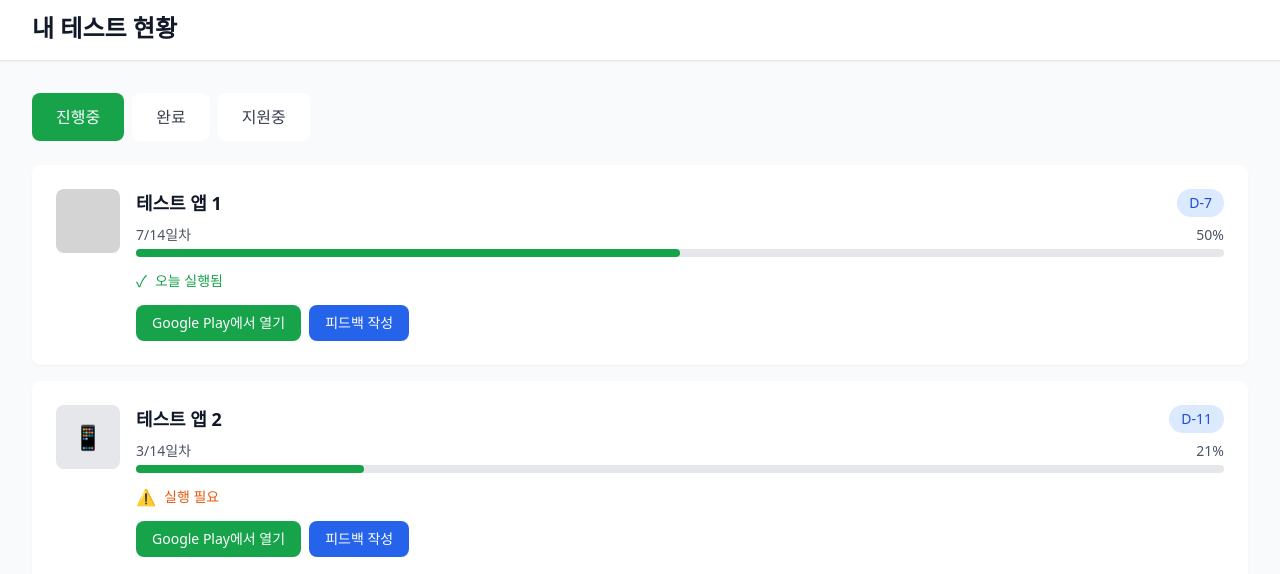
Scenario: T-03: 내 테스트 현황 › 탭 전환 › 완료 탭 클릭 시 완료된 테스트를 표시한다
This screenshot has width=1280, height=574.
Expected: the heading "테스트 앱 1" is shown, [136,189,222,217]
//  완료 탭 클릭
What coordinates should you click on to do the following:
click the button "완료"
I would click on:
 (171, 117)
Its box is [132,93,210,141].
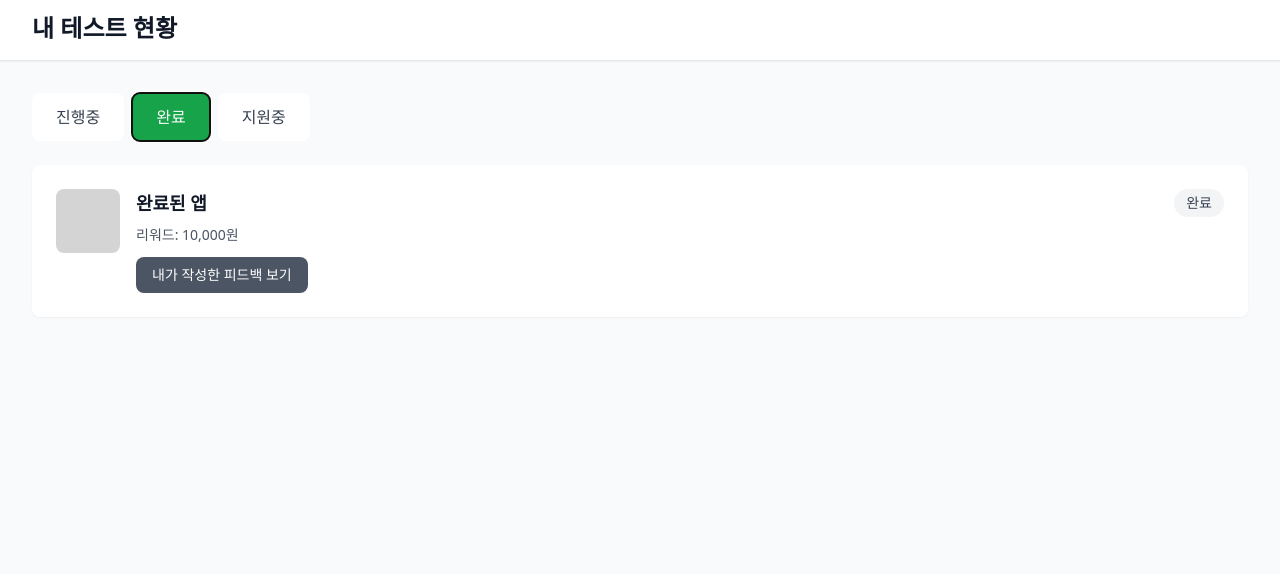
Expected: the heading "완료된 앱" is shown, [136,189,207,217]
Expected: the heading "테스트 앱 1" is gone
Expected: the heading "테스트 앱 2" is gone
